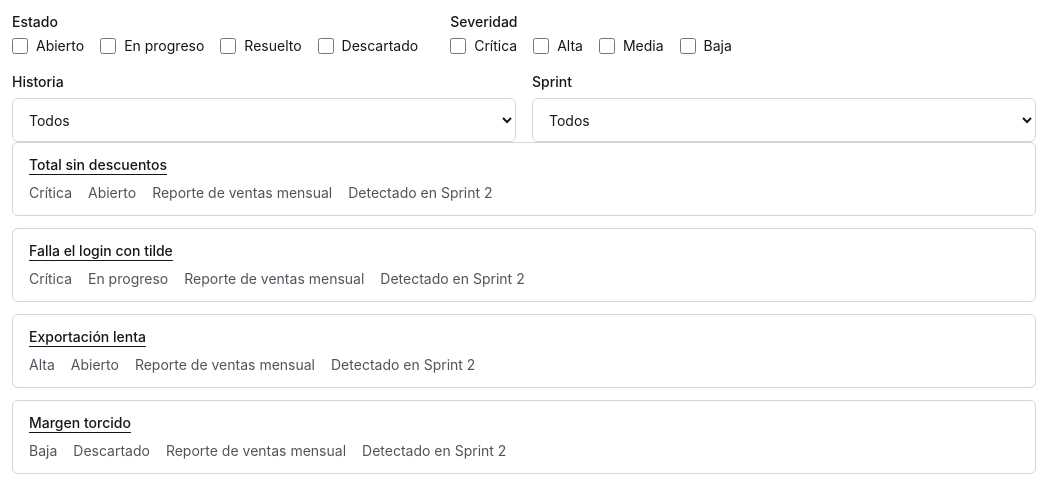
Test: 007/US3 - Consultar y filtrar los defectos › varios valores de un filtro se envían como parámetros repetidos
Expected: the number of list items is 4, [12, 142, 1036, 216]; [12, 228, 1036, 302]; [12, 314, 1036, 388]; [12, 400, 1036, 474]
Expected: the list item that starts with "Total sin descuentos" is shown, [29, 155, 1019, 175]
Click the checkbox labelled "Abierto": (20, 46) [12, 38, 28, 54]
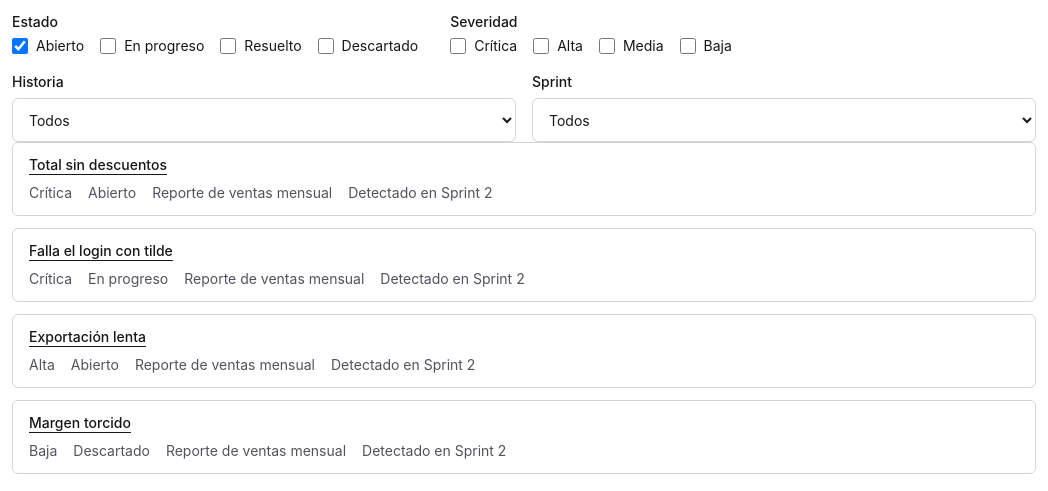
Click the checkbox labelled "En progreso": (108, 46) [100, 38, 116, 54]
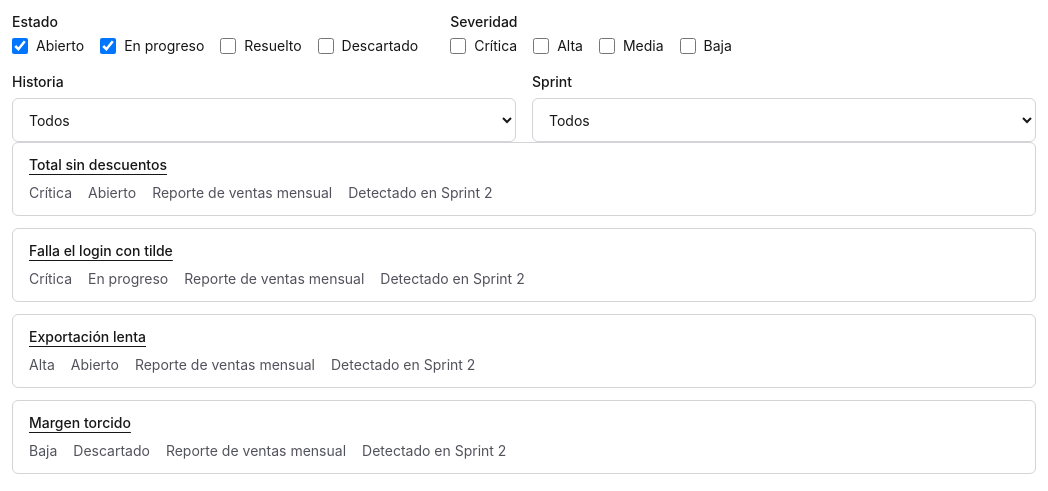
Click the checkbox labelled "Crítica": (458, 46) [450, 38, 466, 54]
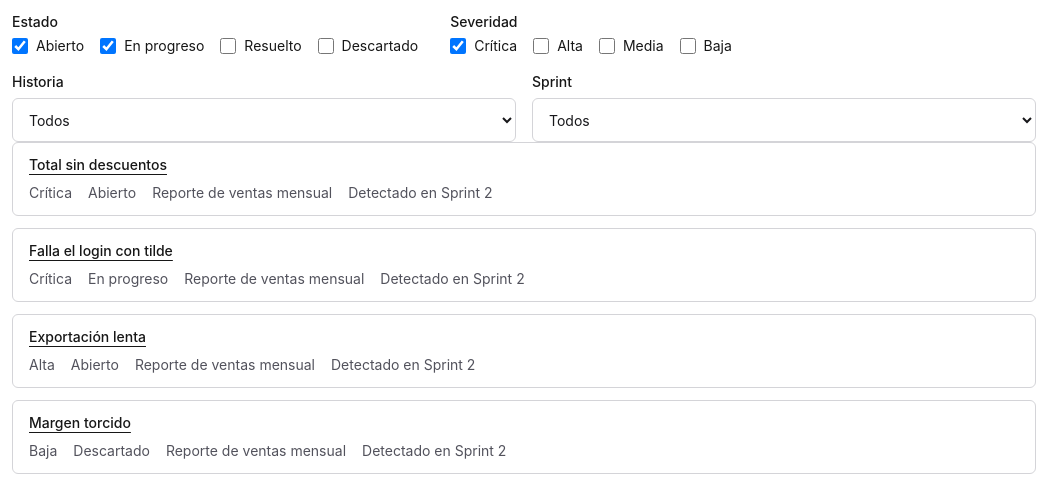
Click the checkbox labelled "Alta": (541, 46) [533, 38, 549, 54]
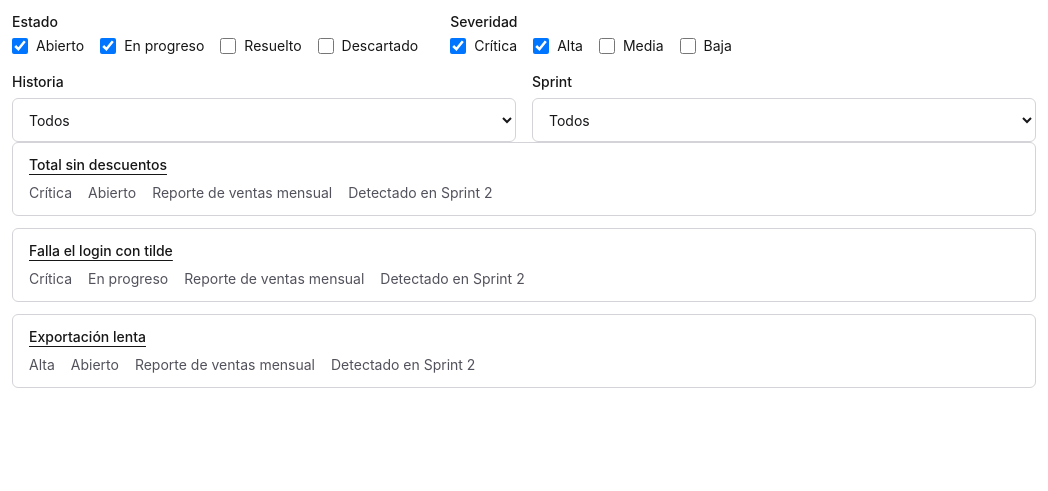
Expected: the list item that starts with "Total sin descuentos" is shown, [29, 155, 1019, 175]
Now the number of list items is 3, box [12, 142, 1036, 216]; [12, 228, 1036, 302]; [12, 314, 1036, 388]
